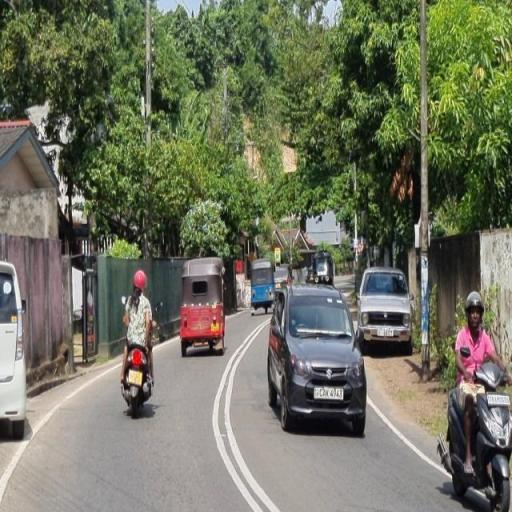double_white_line: (212, 320, 274, 510)
